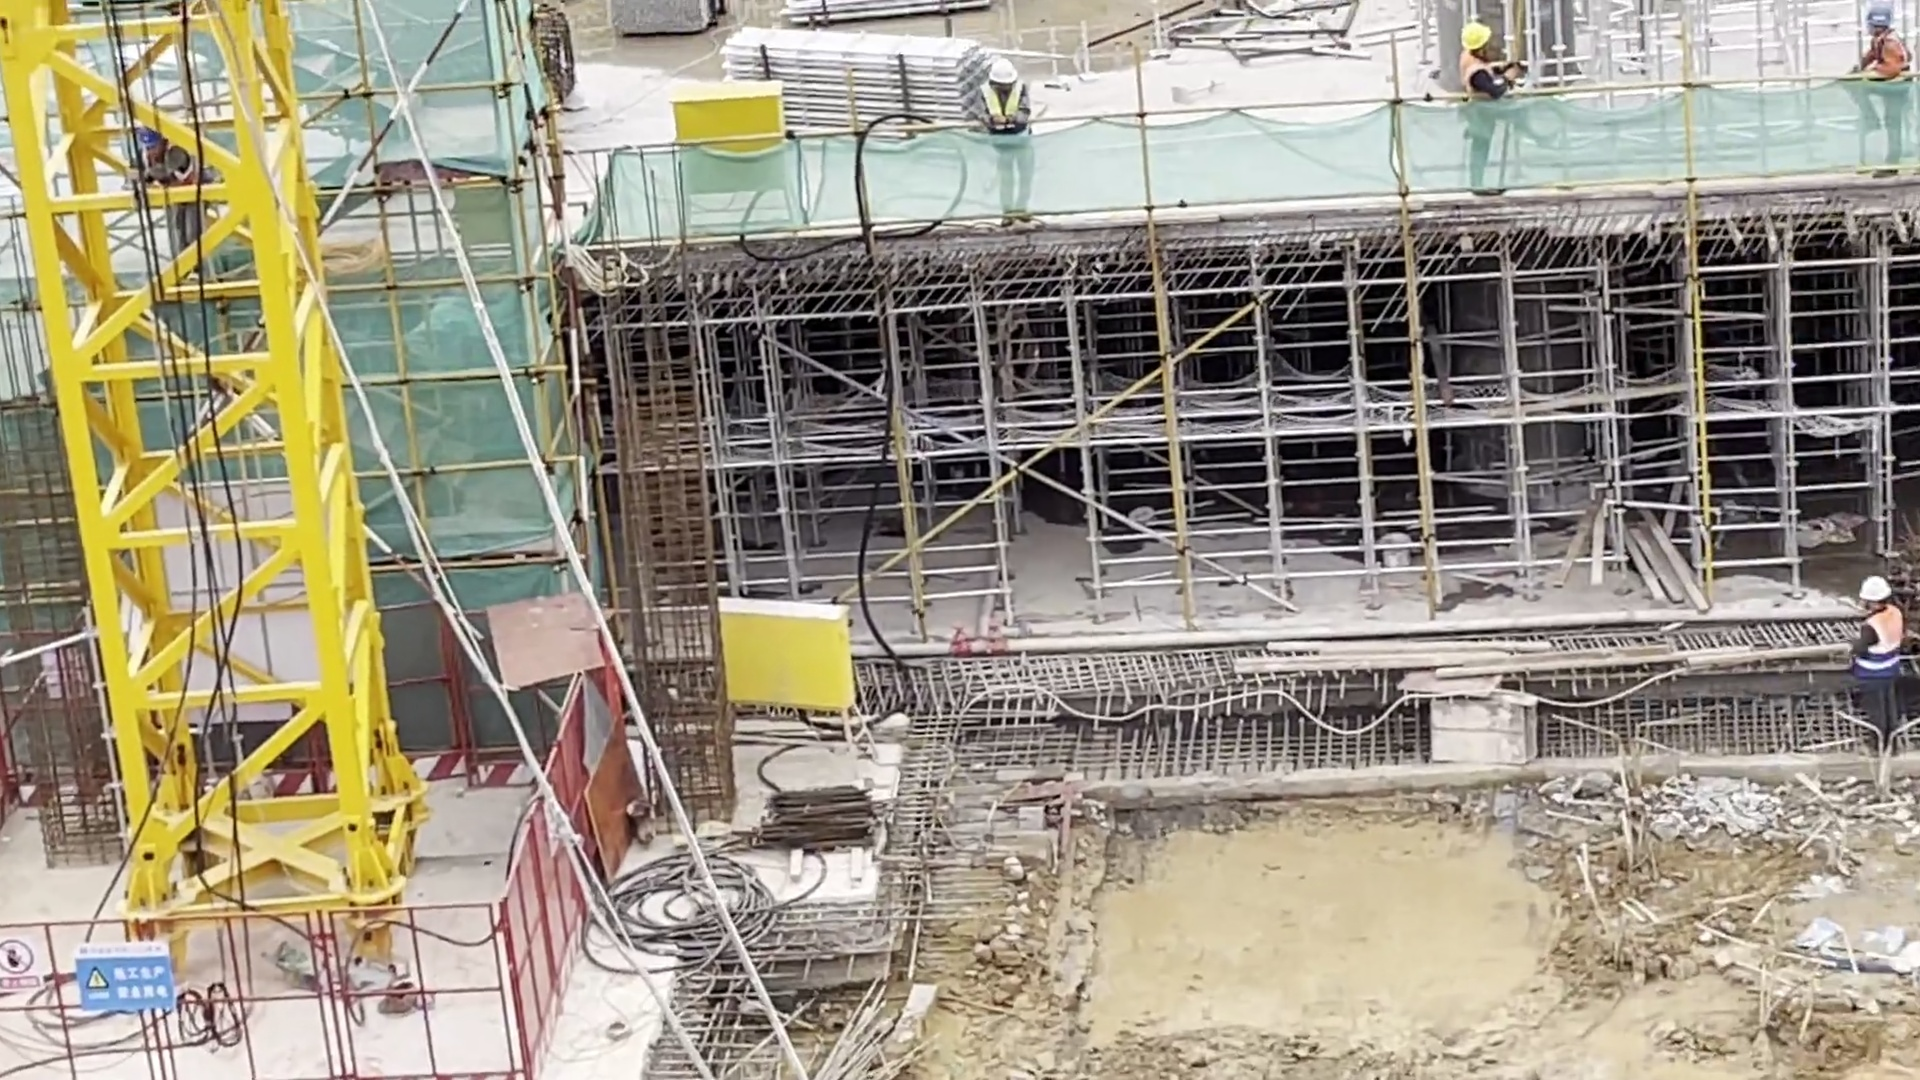helmet: (1451, 24, 1501, 53), (983, 54, 1026, 80), (1863, 6, 1899, 30), (1862, 581, 1891, 601)
person: (966, 61, 1056, 239), (1456, 18, 1532, 197), (1841, 1, 1918, 177), (1846, 572, 1912, 762)
vest: (1458, 58, 1514, 133), (972, 86, 1038, 146), (1855, 36, 1917, 99), (1850, 606, 1906, 674)
